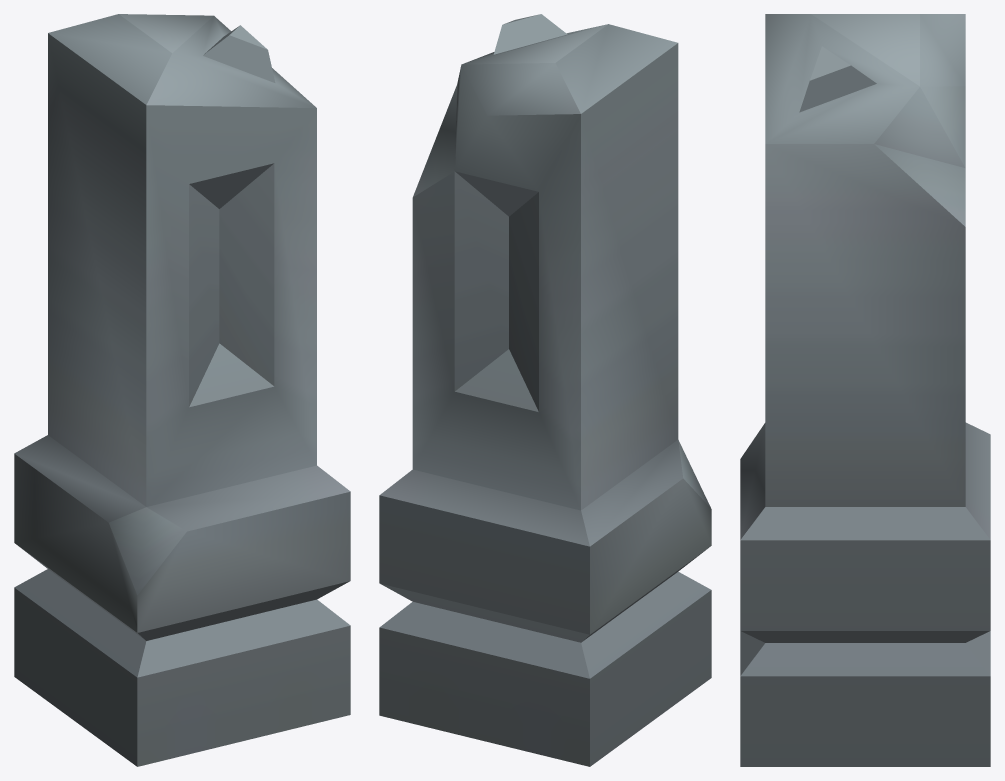
File: fence_pillar_broken.glb
3 renders of one model, left to right at view 1: azimuth 30°, elevation 25°; view 2: azimuth 150°, elevation 25°; view 3: azimuth 270°, elevation 25°, orthographic. The views are drawn at different scales.
Visible parts, largest first — view 1: fence_pillar_broken; view 2: fence_pillar_broken; view 3: fence_pillar_broken.
Boxes of the visible parts, left/top/right/bottom form: fence_pillar_broken: left=14, top=14, right=350, bottom=766; fence_pillar_broken: left=379, top=14, right=711, bottom=766; fence_pillar_broken: left=740, top=14, right=990, bottom=766.
Size of the model in its own units: 0.5 by 1.5 by 0.5.
1 material, 1 textured.
